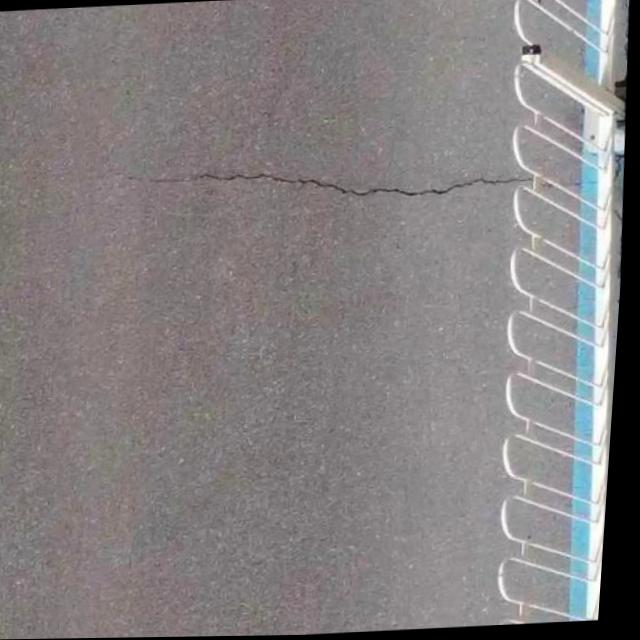Crack: (126, 148, 540, 237)
